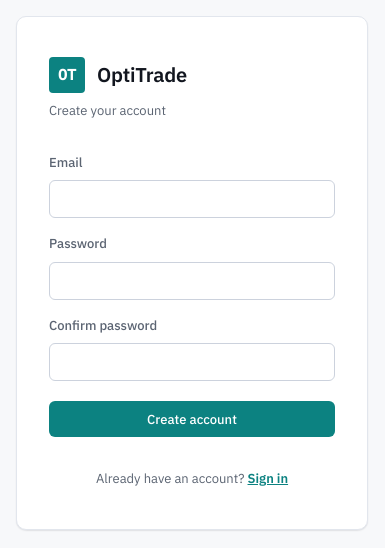
Test: RegisterPage › registers with the real /auth/register contract and redirects to /login with a success message
This screenshot has width=385, height=548.
Type "trader@optitrade.io" into the field labelled "Email" at (192, 199), box left=49, top=180, right=335, bottom=218
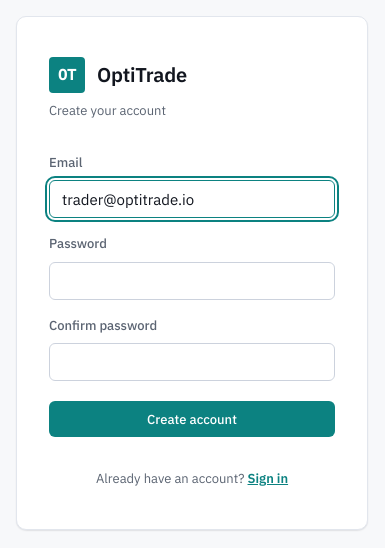
Type "Password123" into the password field labelled "Password" at (192, 281), box left=49, top=262, right=335, bottom=300
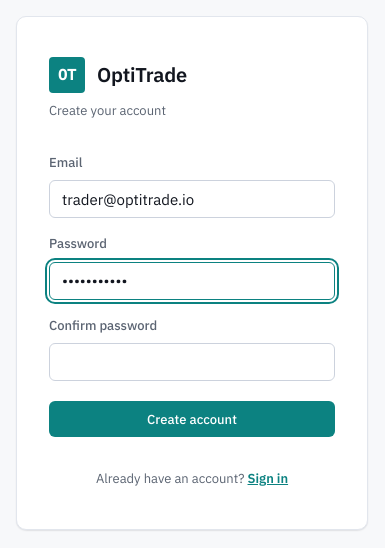
Type "Password123" into the password field labelled "Confirm password" at (192, 362), box left=49, top=343, right=335, bottom=381
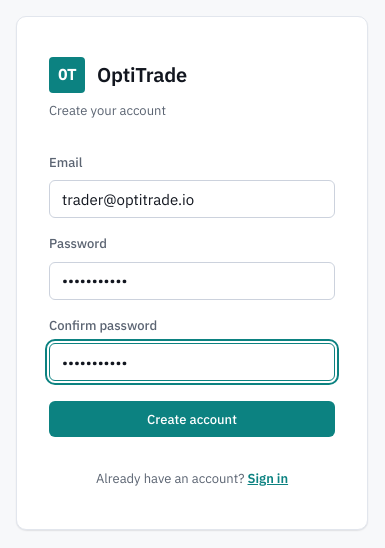
Click the button "Create account" at (192, 419), box left=49, top=401, right=335, bottom=437
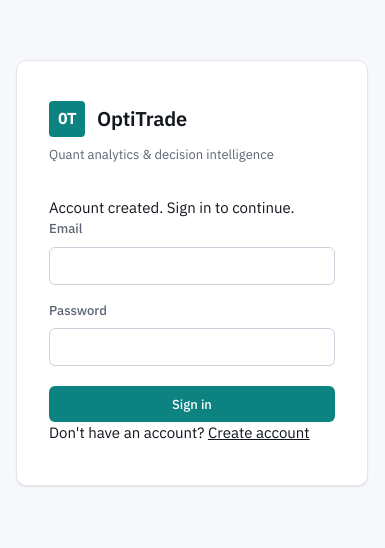
Result: the text "Account created. Sign in to continue." is shown at left=49, top=197, right=335, bottom=219
Result: the button "Sign in" is shown at left=49, top=386, right=335, bottom=422
